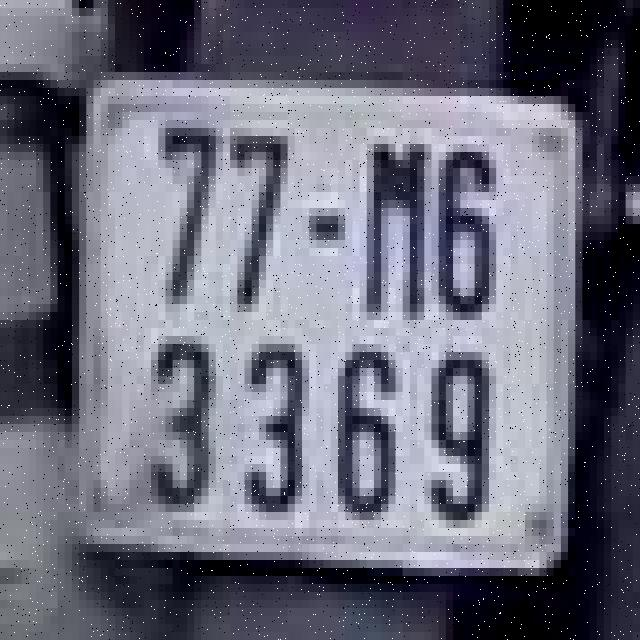3: (133, 328, 219, 520), (234, 332, 313, 516)
7: (140, 116, 220, 316), (327, 332, 406, 532), (227, 120, 291, 320), (435, 144, 500, 328)
9: (424, 344, 496, 536)
M: (352, 132, 424, 324)
